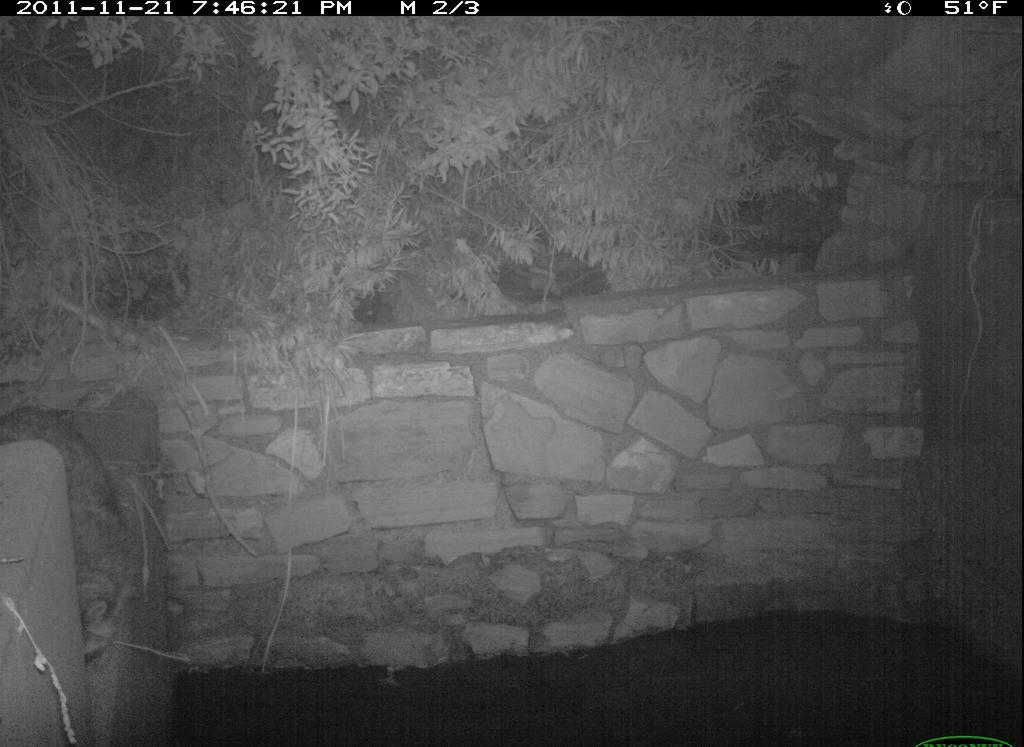raccoon: (3, 396, 152, 669)
